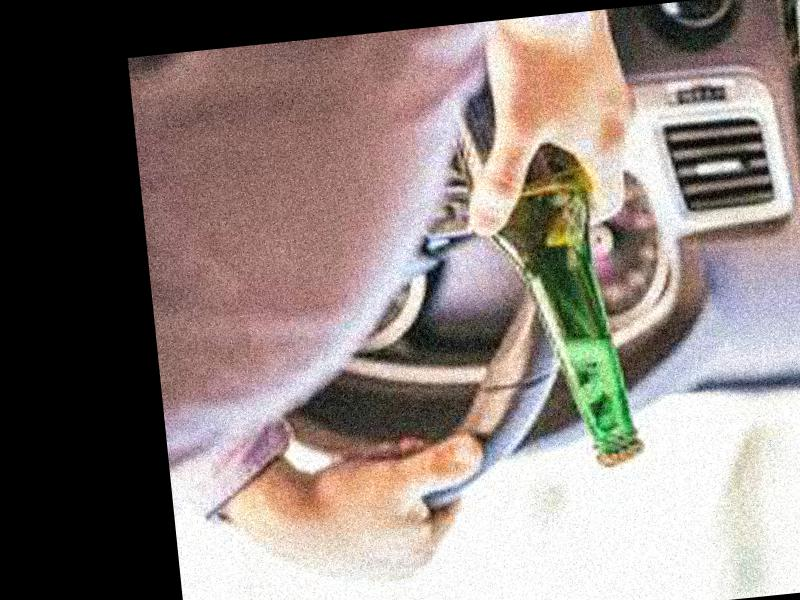Beer: (449, 55, 647, 481)
